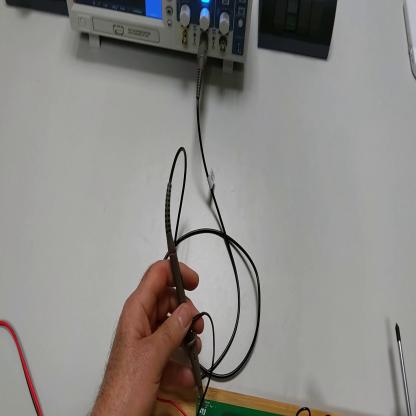hand: (93, 254, 206, 416)
high voltage board: (157, 397, 311, 416)
oscilloscope: (67, 1, 254, 80)
oscilloscope probe tip: (165, 184, 206, 410)
screwdriver-: (396, 320, 413, 416)
socket: (7, 1, 70, 18)
working area: (159, 387, 335, 415)
